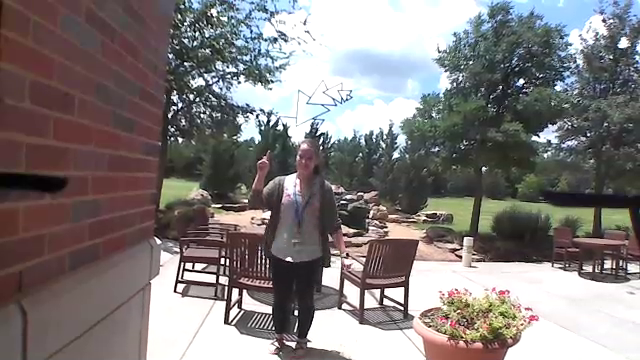up: (252, 146, 275, 181)
